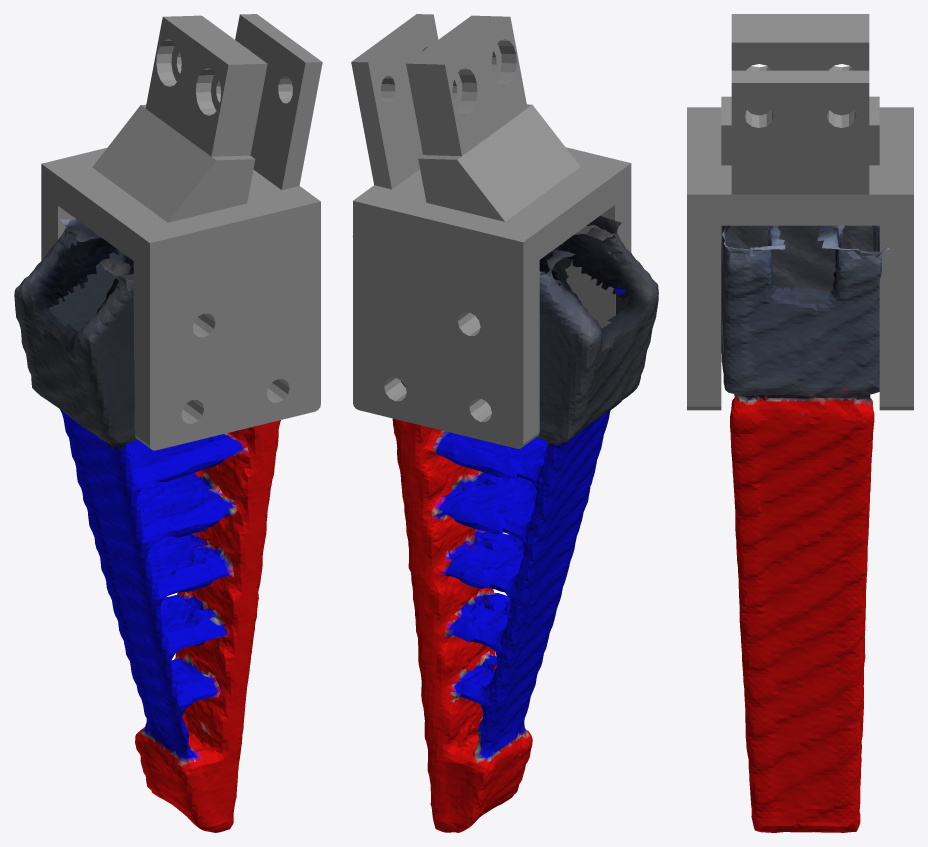
The model's file is flex_griper_connect_grey_lr.obj.
3 renders of one model, left to right at view 1: azimuth 30°, elevation 25°; view 2: azimuth 150°, elevation 25°; view 3: azimuth 270°, elevation 25°, orthographic. The views are drawn at different scales.
Bounding box in the file's own units: 0.0426 × 0.1305 × 0.033.
